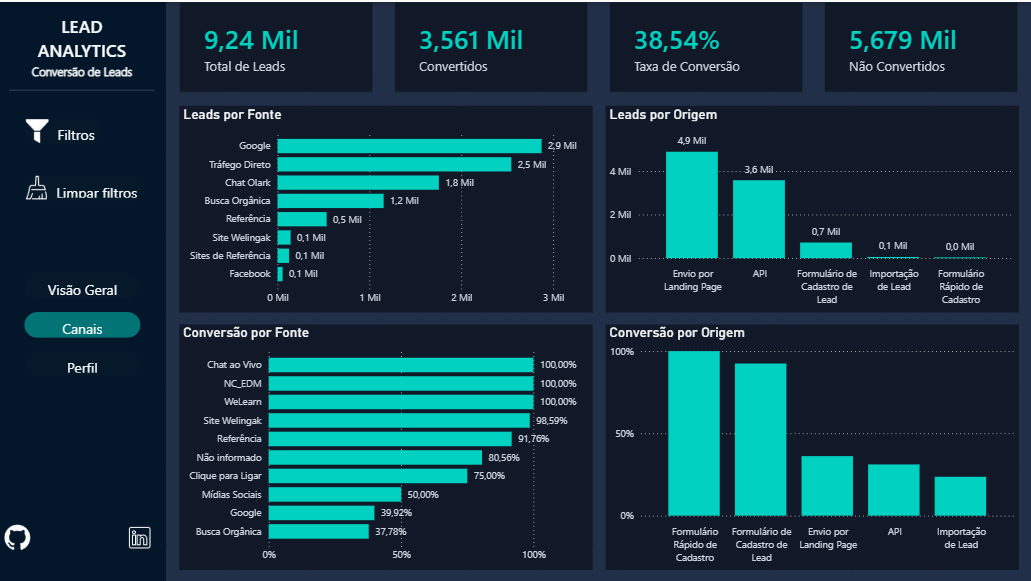

The dashboard page shown, as its layout file describes it:
{"tool":"powerbi","page":{"name":"02 Canais","canvas":[1280,720],"ordinal":1},"visuals":[{"type":"shape","box":[0,0,208,720],"z":0,"group":"g1"},{"type":"cardVisual","fields":{"Data":["leads_tratados_mvp1.Total de Leads"]},"box":[224,0,240,112],"z":0},{"type":"actionButton","title":"Filtros","box":[32,336,144,32],"z":250,"group":"g1"},{"type":"image","box":[0,640,48,48],"z":500,"group":"g1"},{"type":"actionButton","box":[32,384,144,32],"z":750,"group":"g1"},{"type":"actionButton","title":"Filtros","box":[32,480,144,32],"z":812,"group":"g1"},{"type":"actionButton","title":"Filtros","box":[32,432,144,32],"z":875,"group":"g1"},{"type":"cardVisual","fields":{"Data":["leads_tratados_mvp1.Leads Convertidos"]},"box":[490.7,0,240,112],"z":1000},{"type":"textbox","box":[0,10.8,207.8,89.1],"z":1000,"group":"g1"},{"type":"textbox","box":[0,70.7,208,41.8],"z":2000,"group":"g1"},{"type":"columnChart","title":"Leads por Origem","fields":{"Category":["leads_tratados_mvp1.origem_do_lead"],"Y":["leads_tratados_mvp1.Total de Leads"]},"box":[752,128,512,256],"z":2000},{"type":"cardVisual","fields":{"Data":["leads_tratados_mvp1.Leads Não Convertidos"]},"box":[1024,0,240,112],"z":3000},{"type":"shape","box":[13.3,69.3,180.2,79.4],"z":3000,"group":"g1"},{"type":"cardVisual","fields":{"Data":["leads_tratados_mvp1.Taxa de Conversão"]},"box":[757.3,0,240,112],"z":4000},{"type":"actionButton","title":"Filtros","box":[32,144,96,32],"z":4000,"group":"g1"},{"type":"barChart","title":"Leads por Fonte","fields":{"Category":["leads_tratados_mvp1.fonte_do_lead"],"Y":["leads_tratados_mvp1.Total de Leads"]},"box":[224,128,512,256],"z":5000},{"type":"image","box":[32,144,32,32],"z":5000,"group":"g1"},{"type":"actionButton","title":"Filtros","box":[37,215,144,32],"z":5500,"group":"g1"},{"type":"image","box":[160,640,32,48],"z":5750,"group":"g1"},{"type":"image","box":[32,215,32,32],"z":6000,"group":"g1"},{"type":"image","box":[32,144,32,32],"z":8000},{"type":"barChart","title":"Conversão por Fonte","fields":{"Category":["leads_tratados_mvp1.fonte_do_lead"],"Y":["leads_tratados_mvp1.Taxa de Conversão"]},"box":[224,400,512,304],"z":9000},{"type":"group","id":"g1","title":"Grupo 2","box":[0,0,208,720],"z":11000},{"type":"columnChart","title":"Conversão por Origem","fields":{"Category":["leads_tratados_mvp1.origem_do_lead"],"Y":["leads_tratados_mvp1.Taxa de Conversão"]},"box":[752,400,512,304],"z":12000}]}

Visuals, with their boxes in screenshot pixels (x1, y1, x2, y2), scaled from the page's 1280x720 canvas onto the 1031x581 screenshot:
shape: rect(0, 0, 168, 580)
cardVisual - leads_tratados_mvp1.Total de Leads: rect(180, 0, 374, 90)
"Filtros" actionButton: rect(26, 271, 142, 297)
image: rect(0, 516, 39, 555)
actionButton: rect(26, 310, 142, 336)
"Filtros" actionButton: rect(26, 387, 142, 413)
"Filtros" actionButton: rect(26, 349, 142, 374)
cardVisual - leads_tratados_mvp1.Leads Convertidos: rect(395, 0, 589, 90)
textbox: rect(0, 9, 167, 81)
textbox: rect(0, 57, 168, 91)
"Leads por Origem" columnChart: rect(606, 103, 1018, 310)
cardVisual - leads_tratados_mvp1.Leads Não Convertidos: rect(825, 0, 1018, 90)
shape: rect(11, 56, 156, 120)
cardVisual - leads_tratados_mvp1.Taxa de Conversão: rect(610, 0, 803, 90)
"Filtros" actionButton: rect(26, 116, 103, 142)
"Leads por Fonte" barChart: rect(180, 103, 593, 310)
image: rect(26, 116, 52, 142)
"Filtros" actionButton: rect(30, 173, 146, 199)
image: rect(129, 516, 155, 555)
image: rect(26, 173, 52, 199)
image: rect(26, 116, 52, 142)
"Conversão por Fonte" barChart: rect(180, 323, 593, 568)
"Grupo 2" group: rect(0, 0, 168, 580)
"Conversão por Origem" columnChart: rect(606, 323, 1018, 568)
